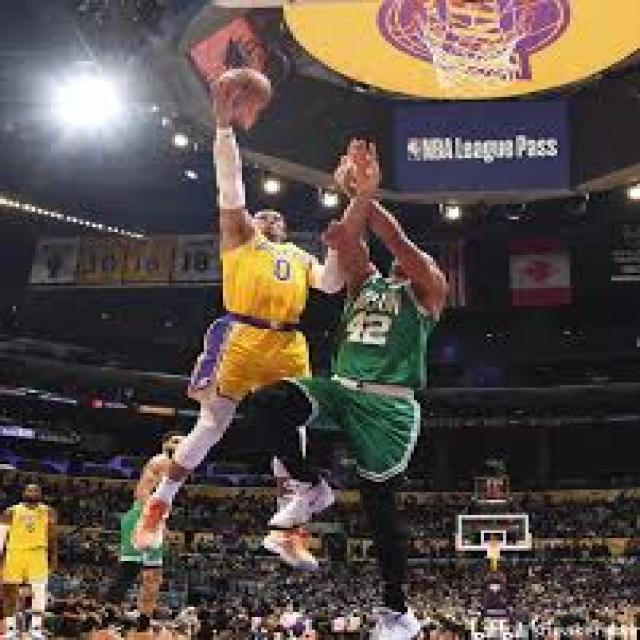rim: (213, 66, 271, 115)
